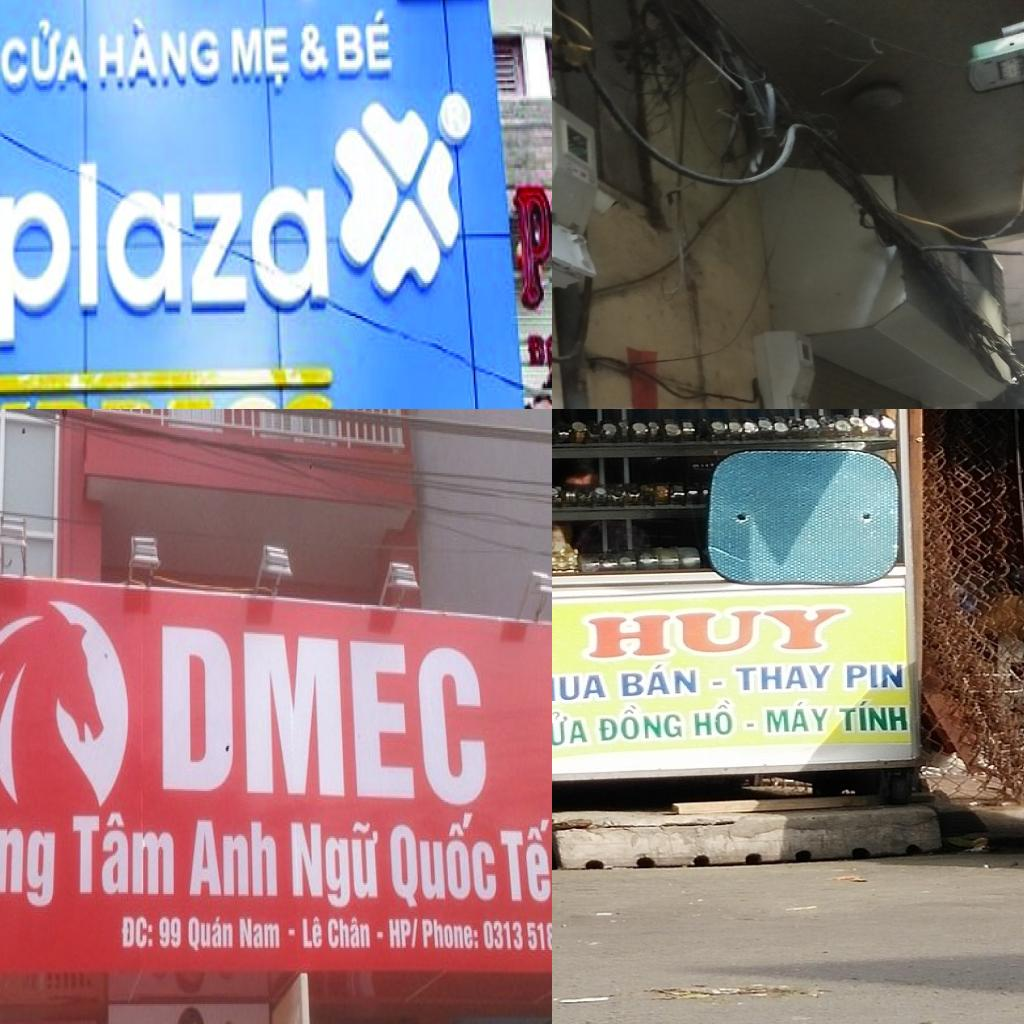text: (0, 154, 341, 354), (159, 623, 492, 811), (580, 602, 854, 664), (385, 807, 500, 912), (69, 804, 179, 899), (96, 12, 223, 90), (286, 814, 385, 912), (186, 815, 279, 901), (2, 14, 92, 98), (0, 807, 59, 911), (497, 814, 552, 906), (230, 16, 294, 94), (334, 6, 396, 82), (596, 701, 687, 745), (387, 916, 481, 955), (616, 662, 703, 698), (733, 663, 835, 693), (836, 697, 914, 735), (763, 701, 834, 737), (237, 916, 298, 957), (483, 919, 552, 955), (187, 912, 237, 961), (296, 20, 334, 83), (327, 914, 385, 953), (552, 669, 612, 704), (692, 696, 740, 739), (552, 707, 594, 755), (843, 660, 908, 690), (120, 914, 156, 952), (445, 98, 470, 137), (158, 916, 184, 952), (300, 914, 324, 950), (706, 678, 728, 690), (744, 722, 760, 732)
